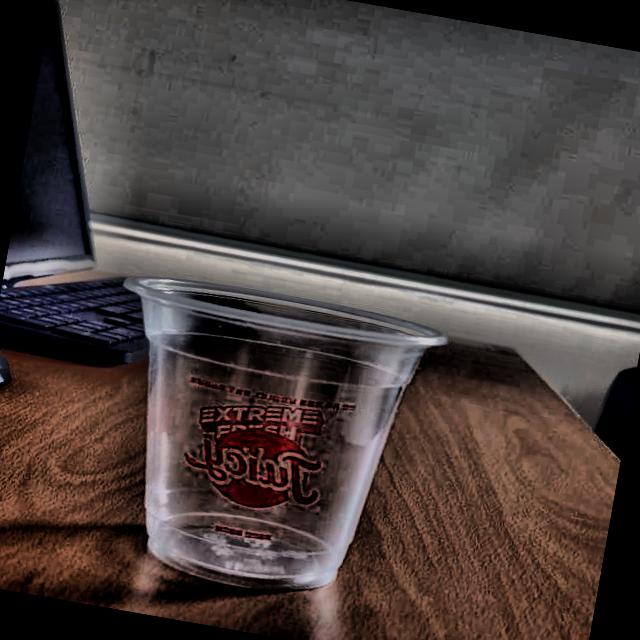plastic cup: (69, 264, 454, 614)
